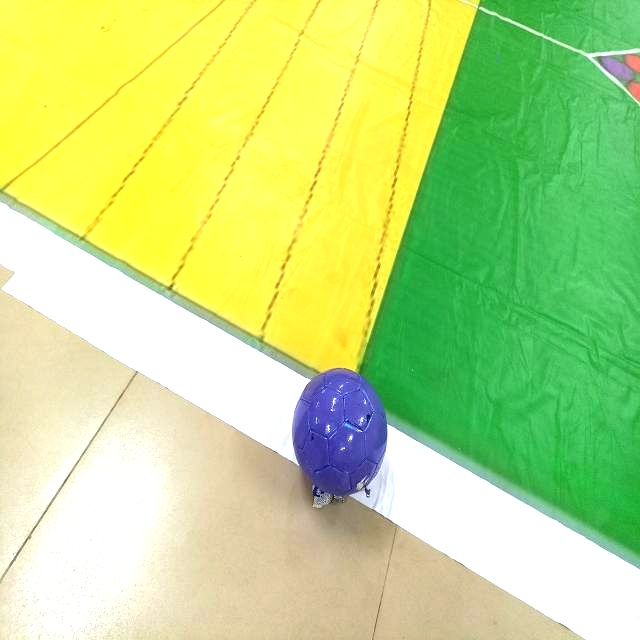purple_ball: (293, 369, 386, 493)
